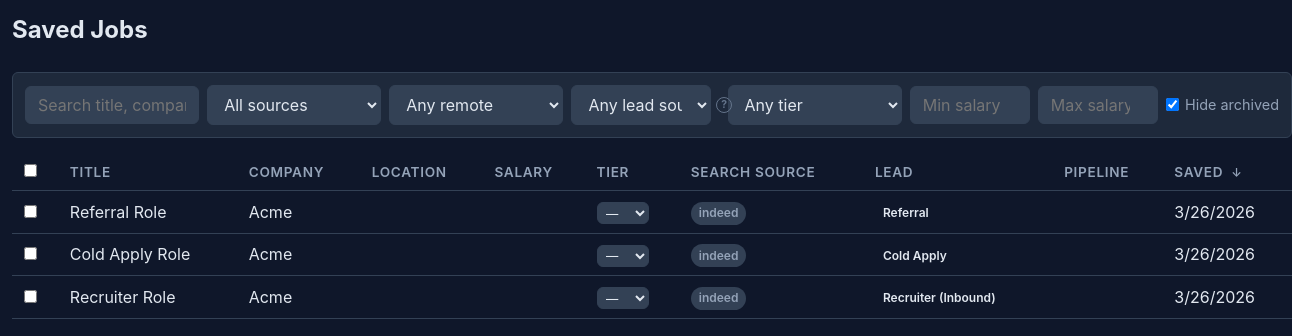
Test: Postings Page — lead_source filter select › filters postings by selected lead source
The width and height of the screenshot is (1292, 336).
Expected: the text "Referral Role" is shown, [58, 191, 237, 233]
Expected: the text "Cold Apply Role" is shown, [58, 233, 237, 276]
Select "Referral" in the 3rd dropdown at (641, 105), box [571, 85, 711, 125]
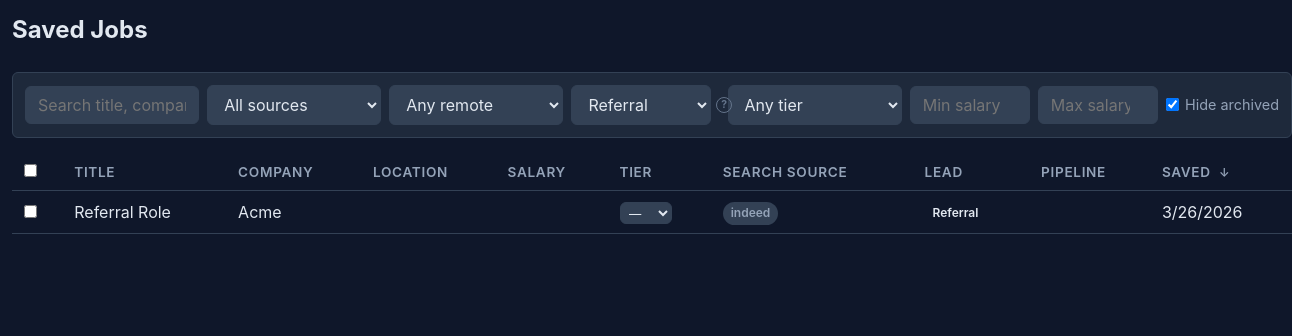
Expected: the text "Referral Role" is shown, [62, 191, 226, 233]
Now the text "Cold Apply Role" is gone
Now the text "Recruiter Role" is gone
